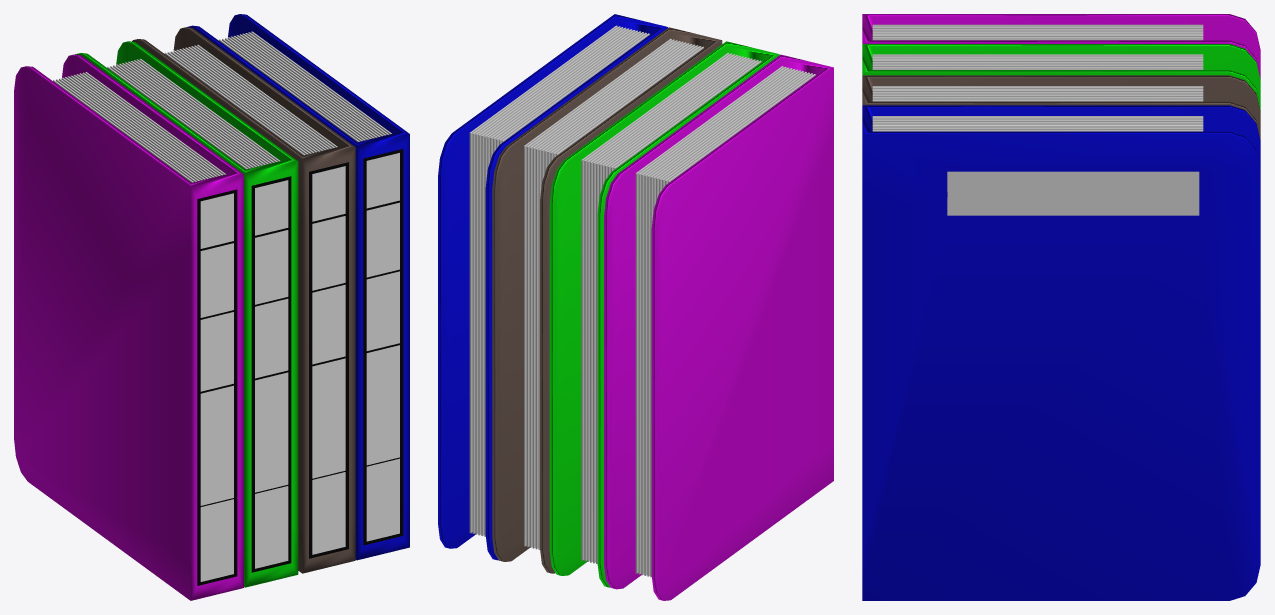
Rendered from file_folder.fbx.
3 views of the same model, side by side, from view 1: azimuth 30°, elevation 25°; view 2: azimuth 150°, elevation 25°; view 3: azimuth 270°, elevation 25° (orthographic). The views are drawn at different scales.
Parts seen in each view (by area): view 1: Cube.004, Cube.003, Cube.007, Cube, Cube.001, Cube.005, Cube.002, Cube.006; view 2: Cube.004, Cube.003, Cube.007, Cube, Cube.001, Cube.005, Cube.006, Cube.002; view 3: Cube, Cube.007, Cube.003, Cube.004, Cube.005, Cube.001, Cube.002, Cube.006.
Part boxes in pixels (x1,y1,x2,y2): Cube.004: (14,54,243,600); Cube.003: (132,27,355,573); Cube.007: (75,41,298,587); Cube: (187,14,409,560); Cube.001: (219,31,391,142); Cube.005: (53,72,225,182); Cube.002: (164,45,337,155); Cube.006: (107,58,279,169); Cube.004: (604,54,833,600); Cube.003: (492,27,722,573); Cube.007: (549,41,779,587); Cube: (438,14,667,560); Cube.001: (469,25,649,536); Cube.005: (635,66,815,577); Cube.006: (581,53,761,563); Cube.002: (524,38,703,549); Cube: (862,105,1260,600); Cube.007: (862,44,1260,110); Cube.003: (862,75,1260,140); Cube.004: (862,14,1260,78); Cube.005: (872,24,1203,40); Cube.001: (872,116,1203,131); Cube.002: (872,86,1203,101); Cube.006: (872,54,1203,69).
Bounding box in the file's own units: 17.19 × 31 × 24.
